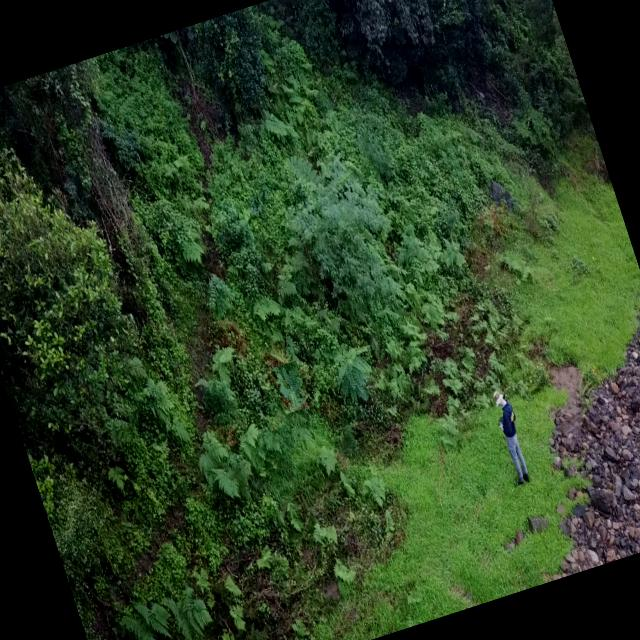Mysore-Thorn-Weed: (328, 335, 379, 403), (272, 360, 311, 414)
